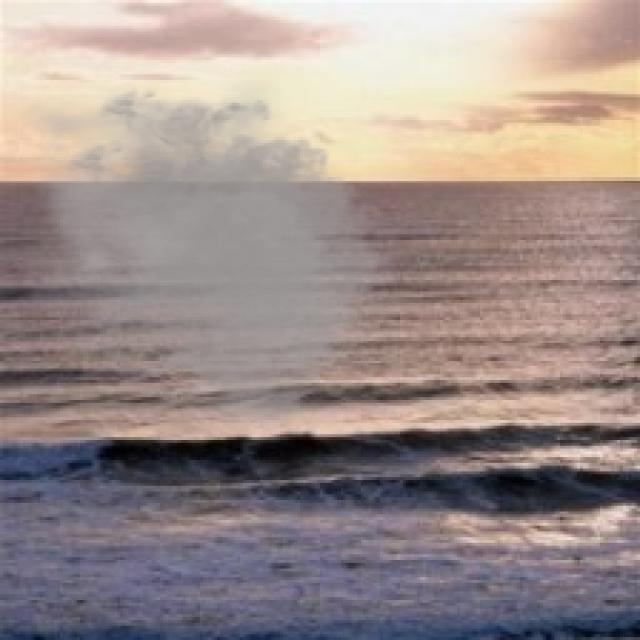smoke: (6, 72, 406, 434)
